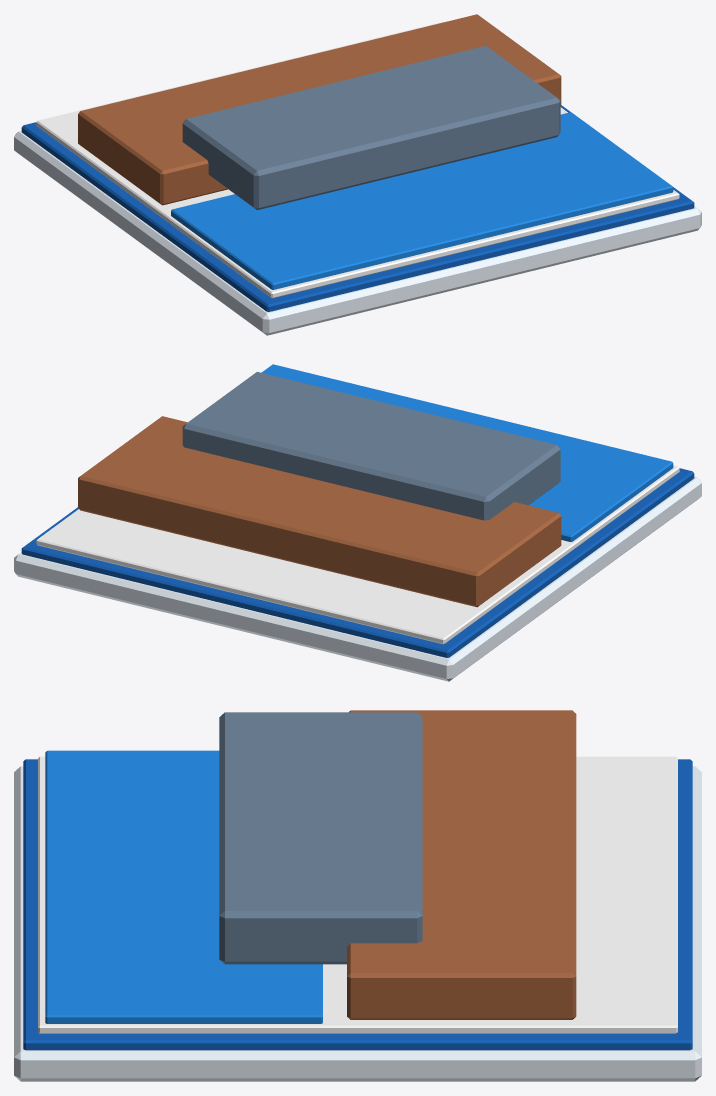
File: Harbor_Stage1_v002.fbx
The picture shows the model from 3 angles, top to bottom: view 1: azimuth 30°, elevation 25°; view 2: azimuth 150°, elevation 25°; view 3: azimuth 270°, elevation 25°; orthographic projection. The views are drawn at different scales.
Parts seen in each view (by area): view 1: FixedShell; view 2: FixedShell; view 3: FixedShell.
Part boxes in pixels (x1,y1,x2,y2): FixedShell: [14, 14, 701, 335]; FixedShell: [14, 364, 701, 681]; FixedShell: [14, 710, 701, 1081].
Bounding box in the file's own units: 186 × 38 × 186.
